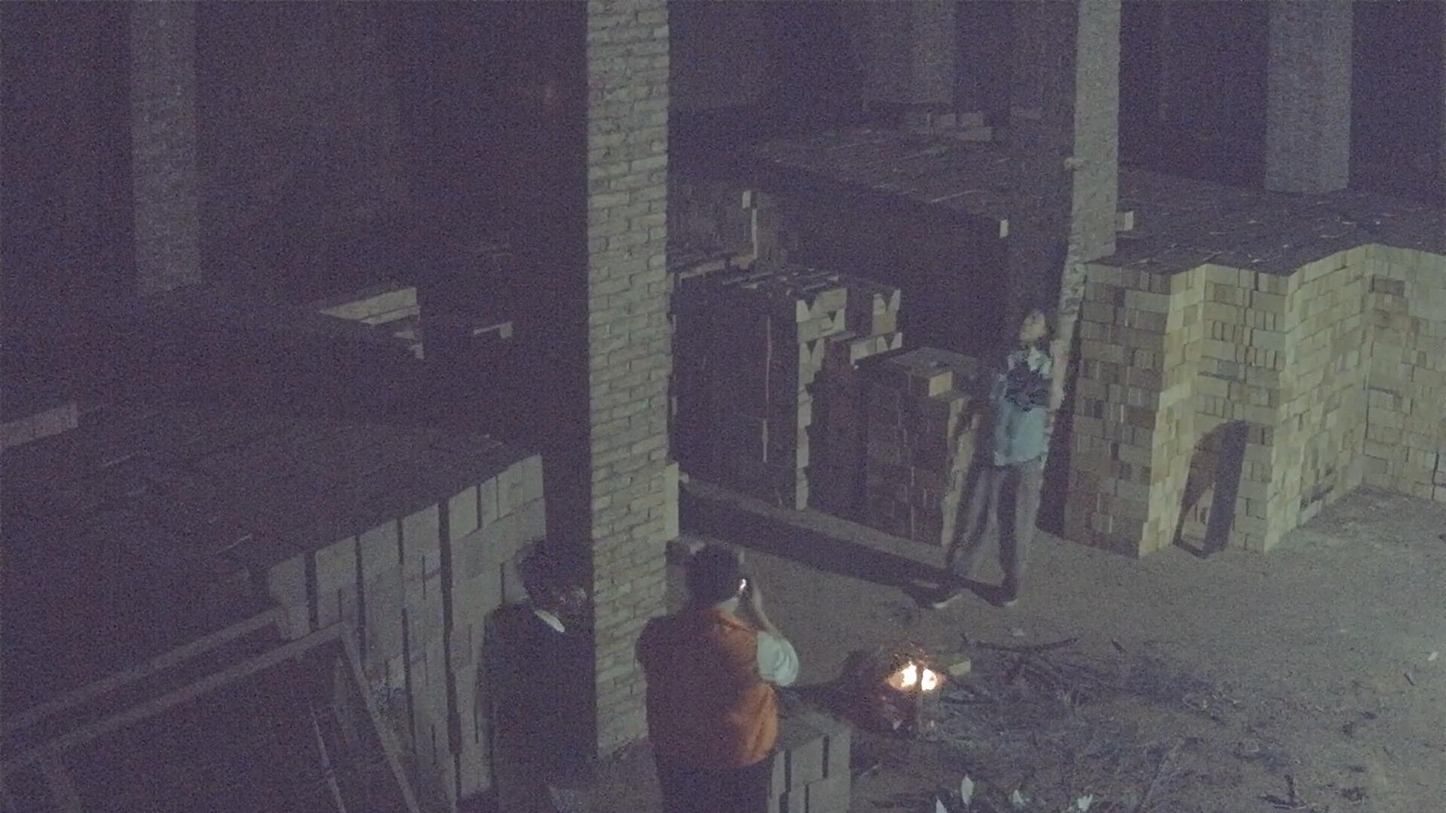fire: (888, 662, 943, 692)
